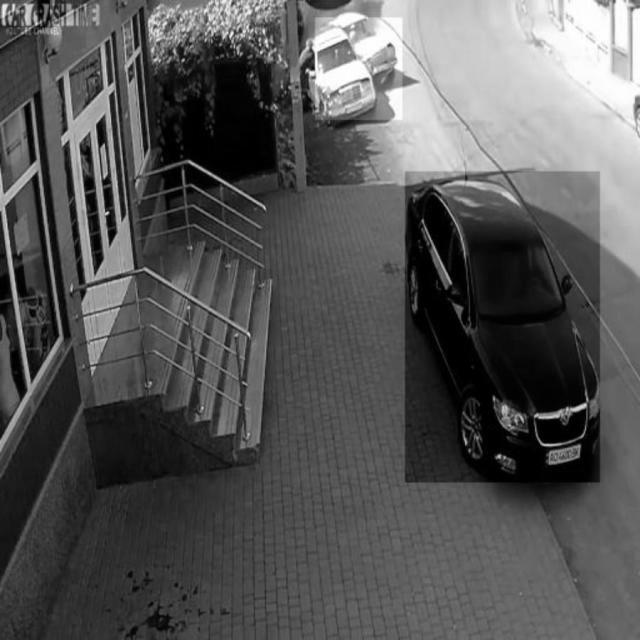accident: (315, 18, 403, 120)
vehicle: (406, 172, 601, 483)
